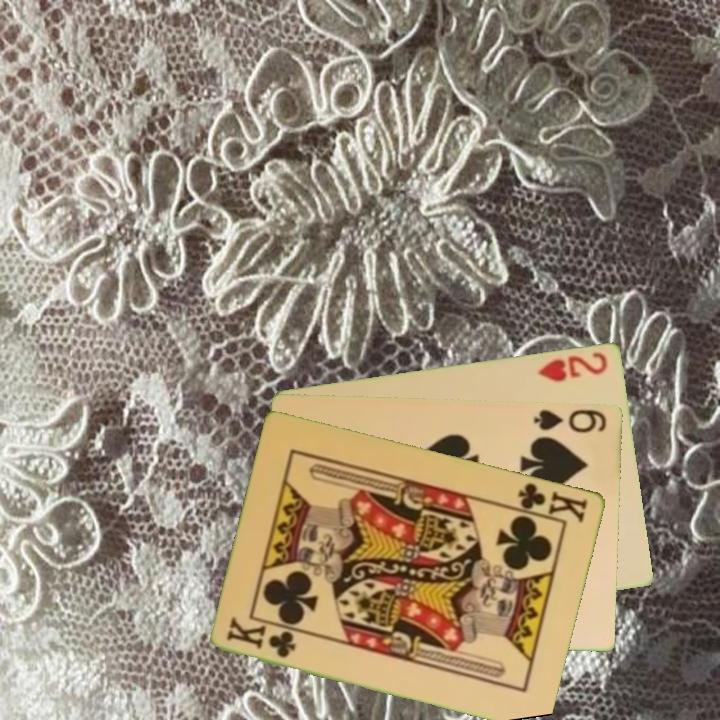2h: (535, 348, 611, 384)
6s: (531, 405, 609, 436)
Kc: (508, 478, 591, 526), (224, 615, 300, 661)
